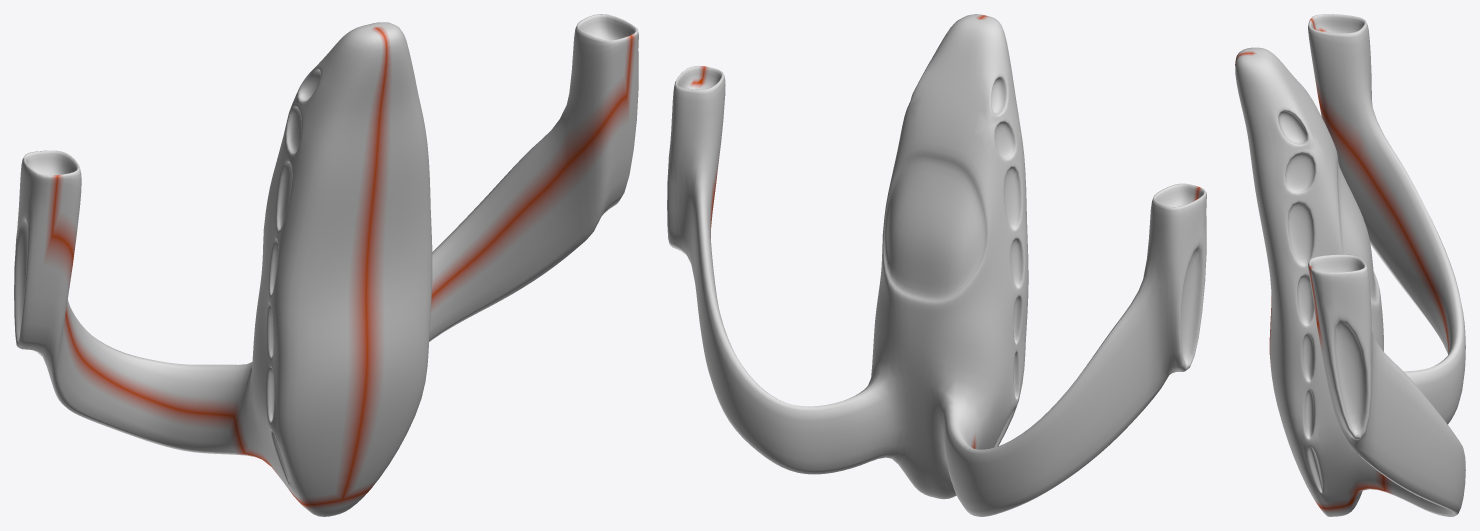
Rendered from spaceship_3.FBX.
3 renders of one model, left to right at view 1: azimuth 30°, elevation 25°; view 2: azimuth 150°, elevation 25°; view 3: azimuth 270°, elevation 25°, orthographic. The views are drawn at different scales.
Parts seen in each view (by area): view 1: Box001_SeamsColor1; view 2: Box001_SeamsColor1; view 3: Box001_SeamsColor1.
Part boxes in pixels (x1=…): Box001_SeamsColor1: x1=14, y1=14, x2=638, y2=516; Box001_SeamsColor1: x1=667, y1=14, x2=1206, y2=516; Box001_SeamsColor1: x1=1235, y1=14, x2=1465, y2=516.
Bounding box in the file's own units: 307 × 249 × 114.
